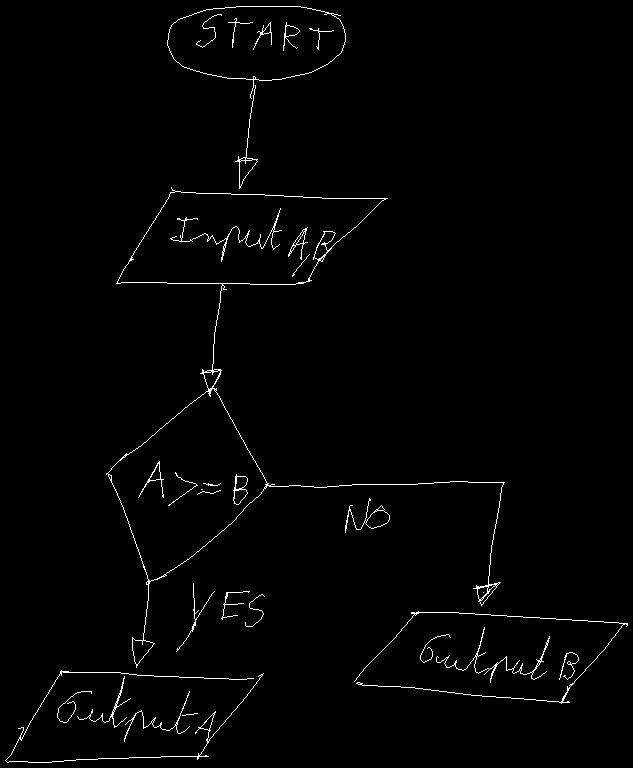arrow: (267, 481, 504, 605), (200, 284, 226, 396), (235, 76, 257, 188), (132, 580, 154, 667)
data: (116, 187, 387, 284), (354, 611, 627, 703), (5, 670, 263, 762)
decision: (106, 387, 268, 584)
terminator: (167, 6, 345, 80)
text: (170, 208, 335, 276), (57, 676, 215, 743), (420, 627, 578, 682), (176, 583, 264, 651), (196, 14, 333, 50), (138, 461, 247, 505), (345, 498, 389, 532)
